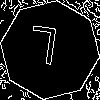L: (25, 25, 60, 75)
